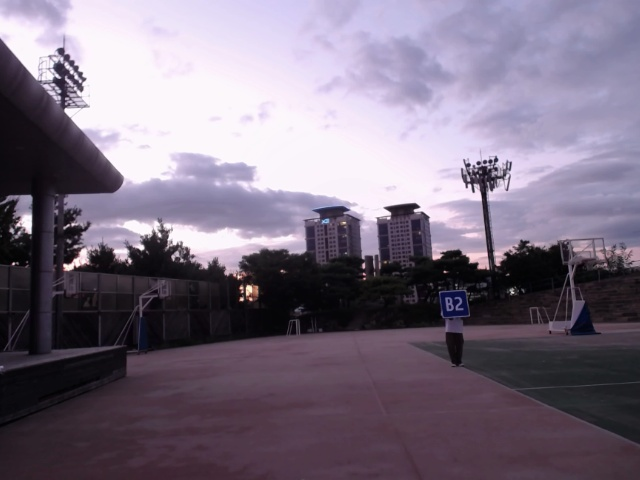delivery_b2: (438, 291, 470, 319)
